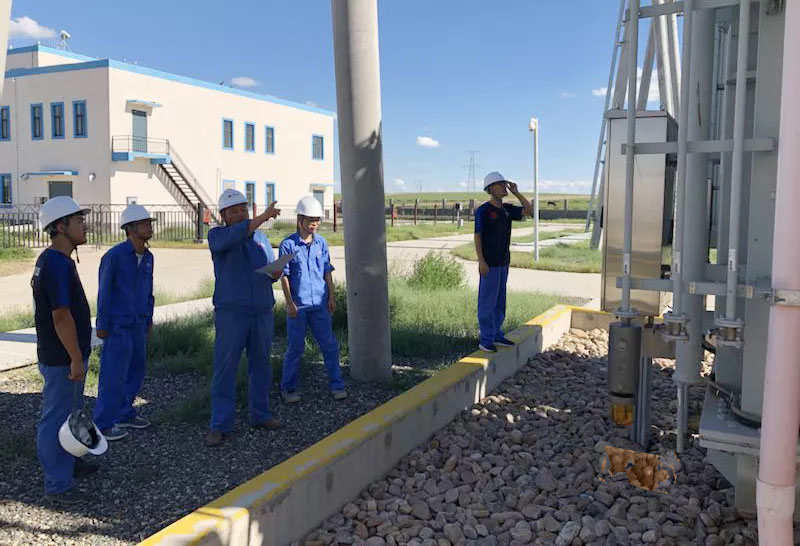oil: (591, 443, 674, 497)
